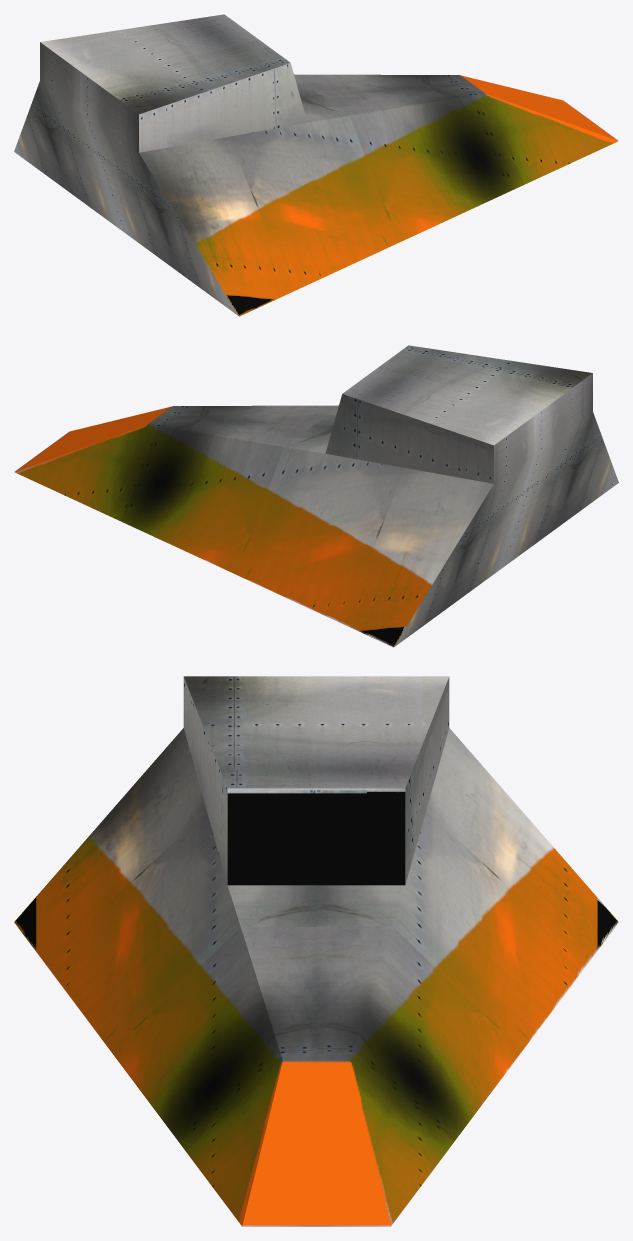
The model's file is speedBoat01_ORANGE.fbx.
3 views of the same model, one above another, from view 1: azimuth 30°, elevation 25°; view 2: azimuth 150°, elevation 25°; view 3: azimuth 270°, elevation 25° (orthographic). The views are drawn at different scales.
Visible parts, largest first — view 1: pCube1; view 2: pCube1; view 3: pCube1.
Boxes of the visible parts, x1,y1,x2,y2 form: pCube1: (14, 14, 618, 316); pCube1: (14, 345, 618, 647); pCube1: (14, 676, 618, 1226).
Bounding box in the file's own units: 23.99 × 7.54 × 18.65.
1 material, 1 textured.
